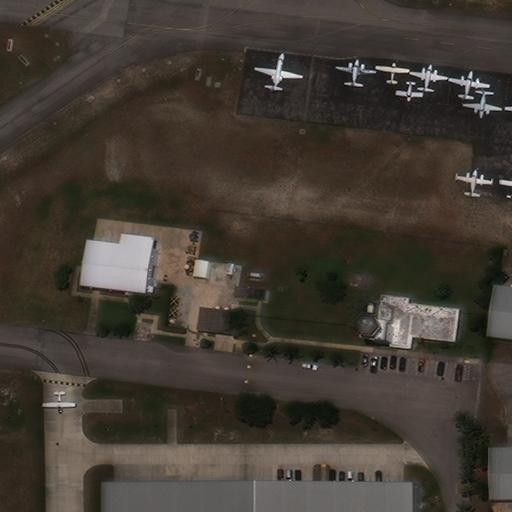Medium Civil Transport: (253, 52, 303, 92)
Small Civil Transport: (448, 69, 490, 99), (335, 58, 375, 87), (455, 168, 493, 198), (462, 90, 501, 119), (409, 64, 447, 92), (41, 391, 75, 414), (375, 61, 409, 84), (395, 80, 424, 101), (498, 174, 511, 200)
